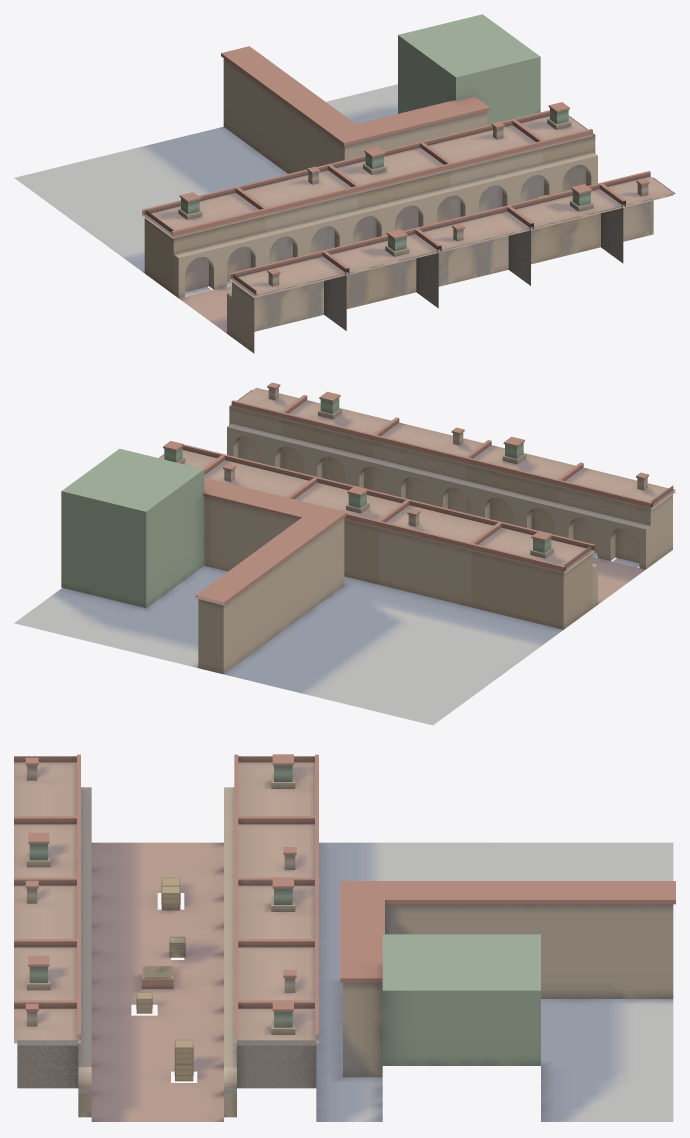
3 views of the same model, one above another, from view 1: azimuth 30°, elevation 25°; view 2: azimuth 150°, elevation 25°; view 3: azimuth 270°, elevation 25° (orthographic). The views are drawn at different scales.
Parts seen in each view (by area): view 1: t; view 2: t; view 3: t.
Boxes of the visible parts, x1,y1,x2,y2 form: t: (14,14,675,353); t: (14,382,675,725); t: (14,754,675,1121).
Bounding box in the file's own units: 50.49 × 11 × 50.08.
